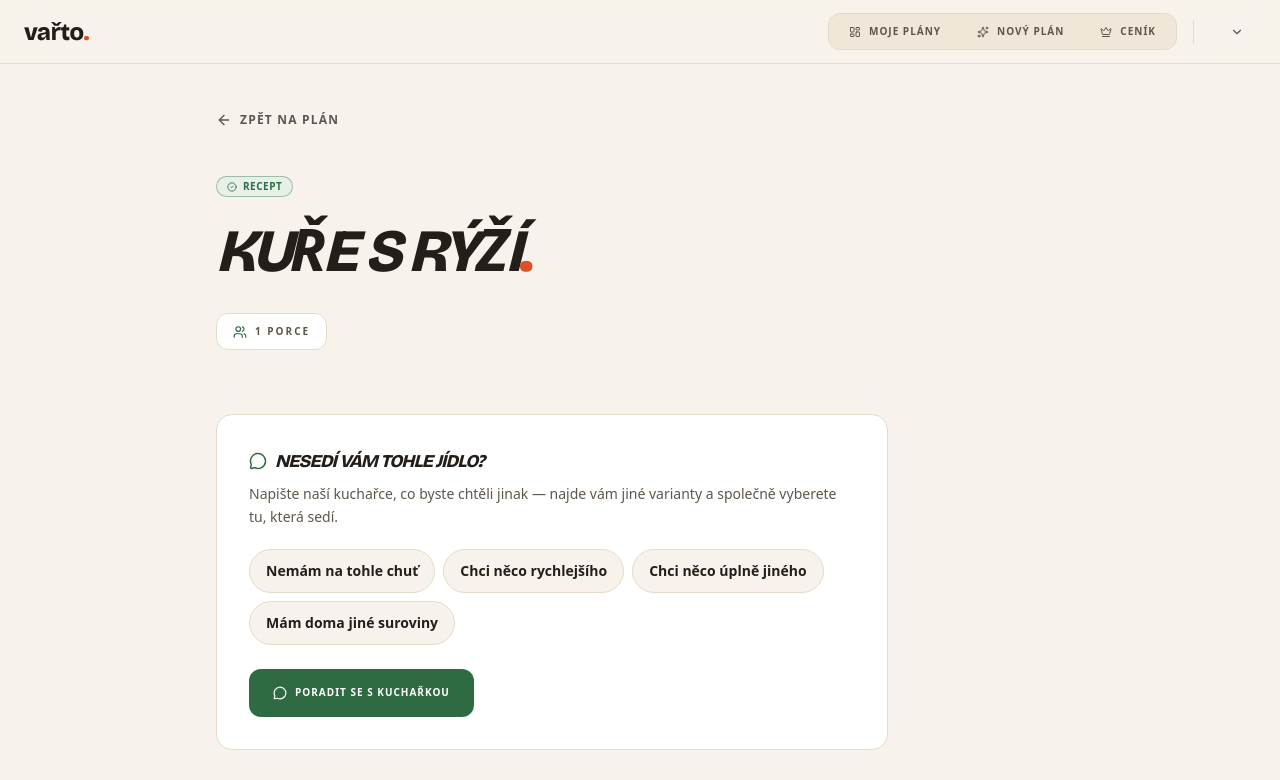
RecipePage refine chat integration › undoing a swap › the confirmation persists instead of vanishing like a toast
The image size is (1280, 780).
Click the button "Poradit se s kuchařkou".
click(361, 692)  # box top-left (249, 668), bottom-right (474, 716)
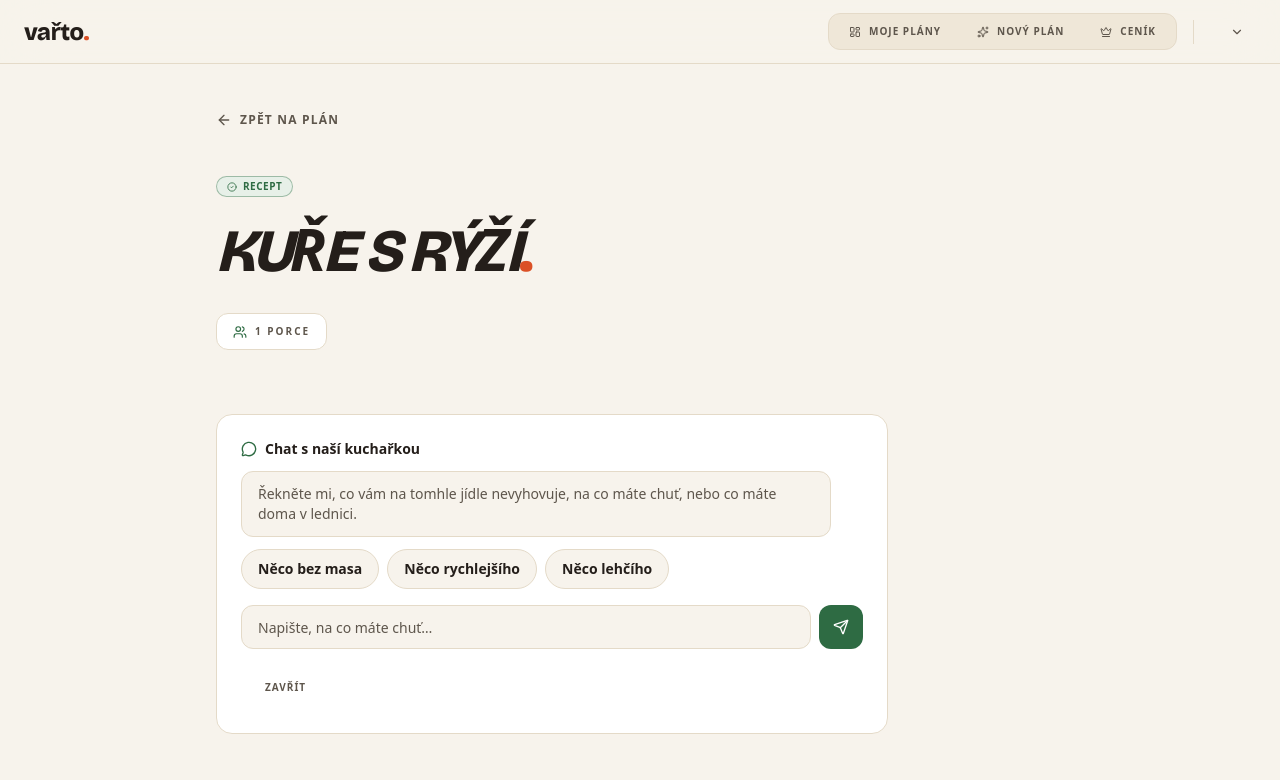
Type "něco s kuřecím" into the field with placeholder "Napište, na co máte chuť…".
click(526, 627); type("něco s kuřecím")  # box top-left (241, 605), bottom-right (811, 649)
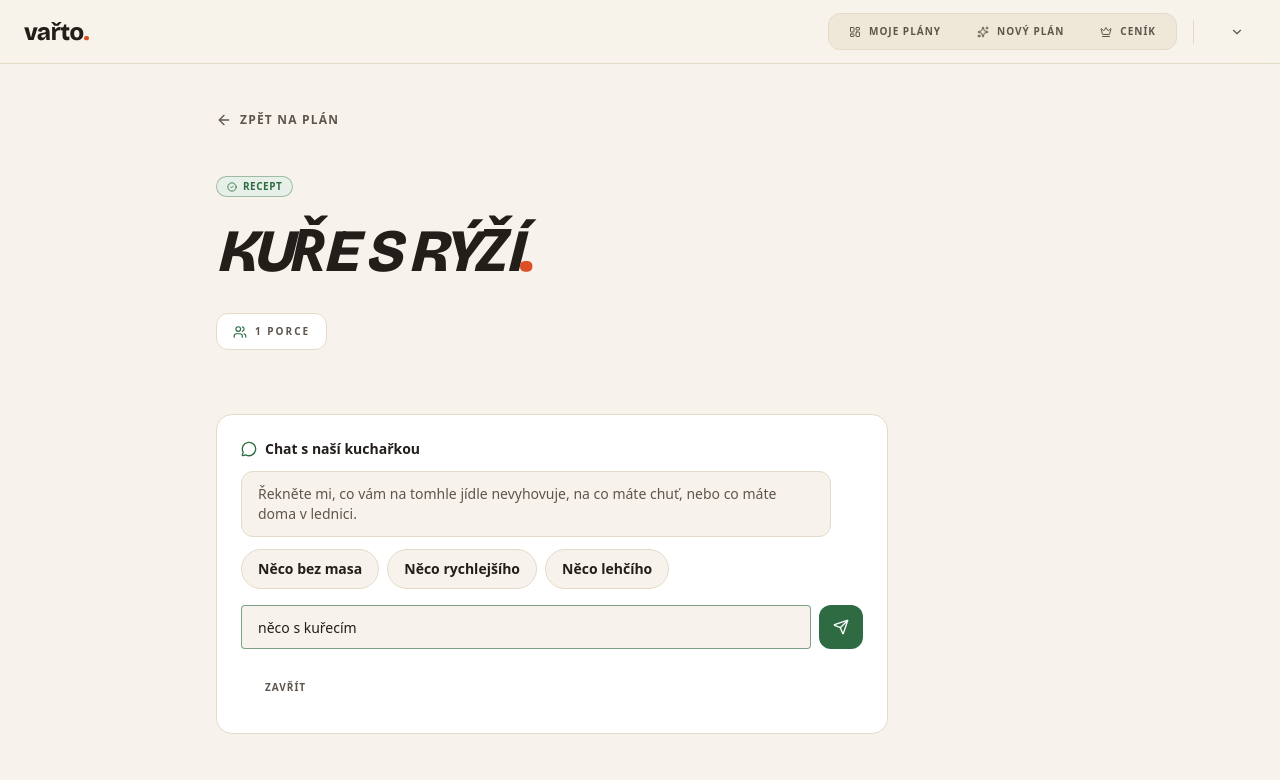
Click the button named "Odeslat".
click(841, 627)  # box top-left (819, 605), bottom-right (863, 649)
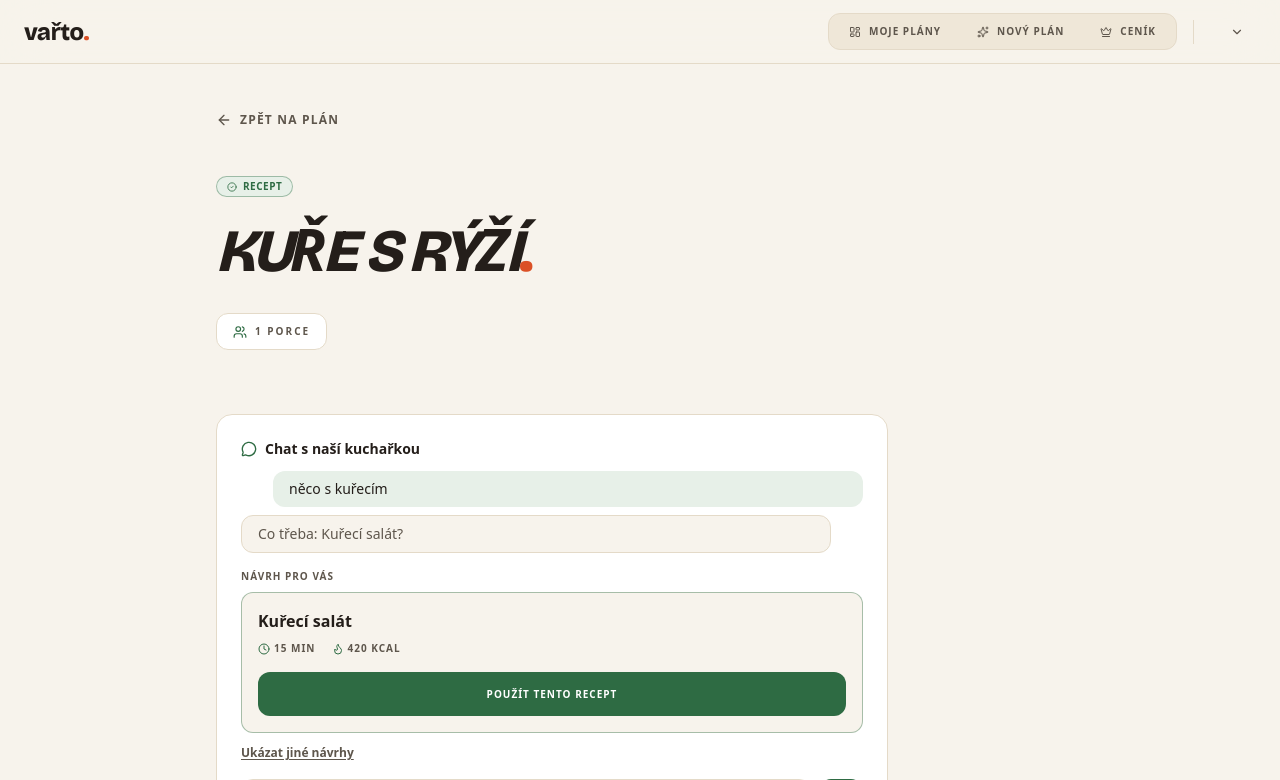
Click the button "Použít tento recept".
click(552, 694)  # box top-left (258, 672), bottom-right (846, 716)
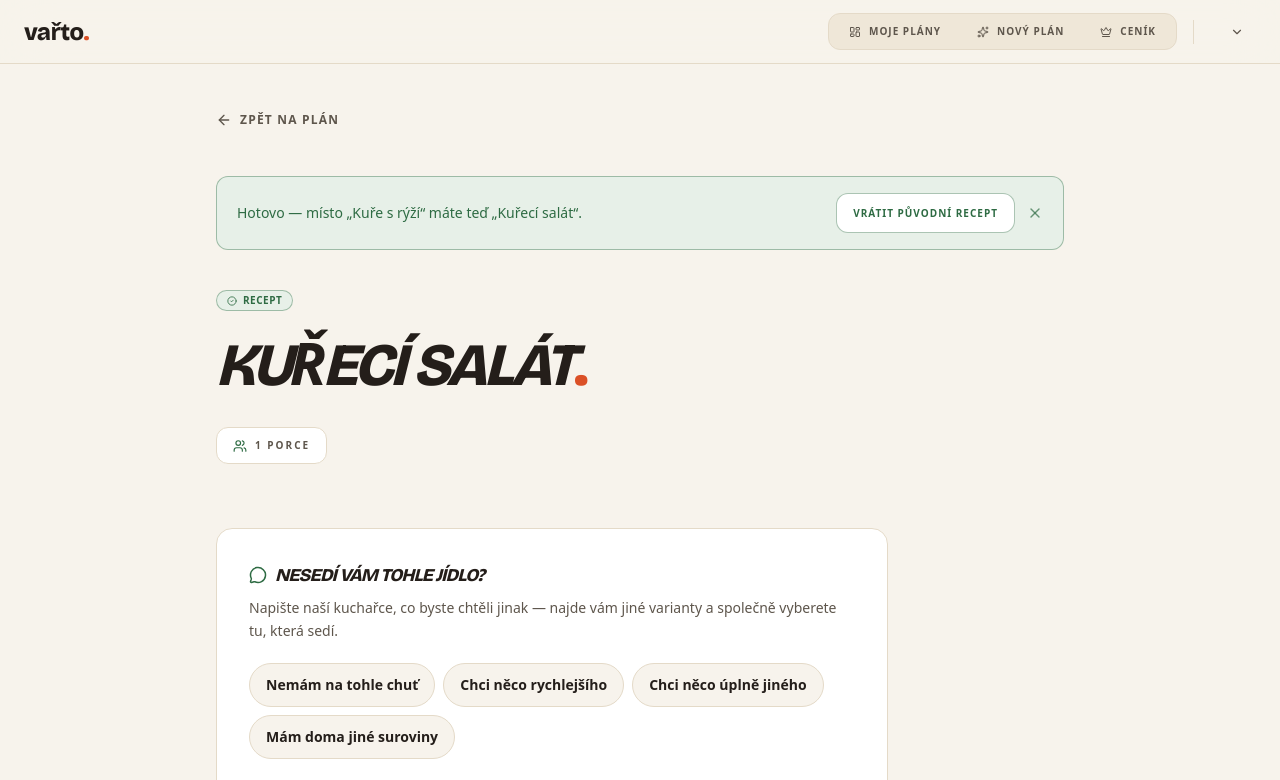
Expected: the message "Hotovo — místo „Kuře s rýží“ máte teď „Kuřecí salát“. Vrátit původní recept" is shown, top-left (216, 176), bottom-right (1064, 250)
Expected: the button "Vrátit původní recept" is shown, top-left (836, 193), bottom-right (1015, 233)
